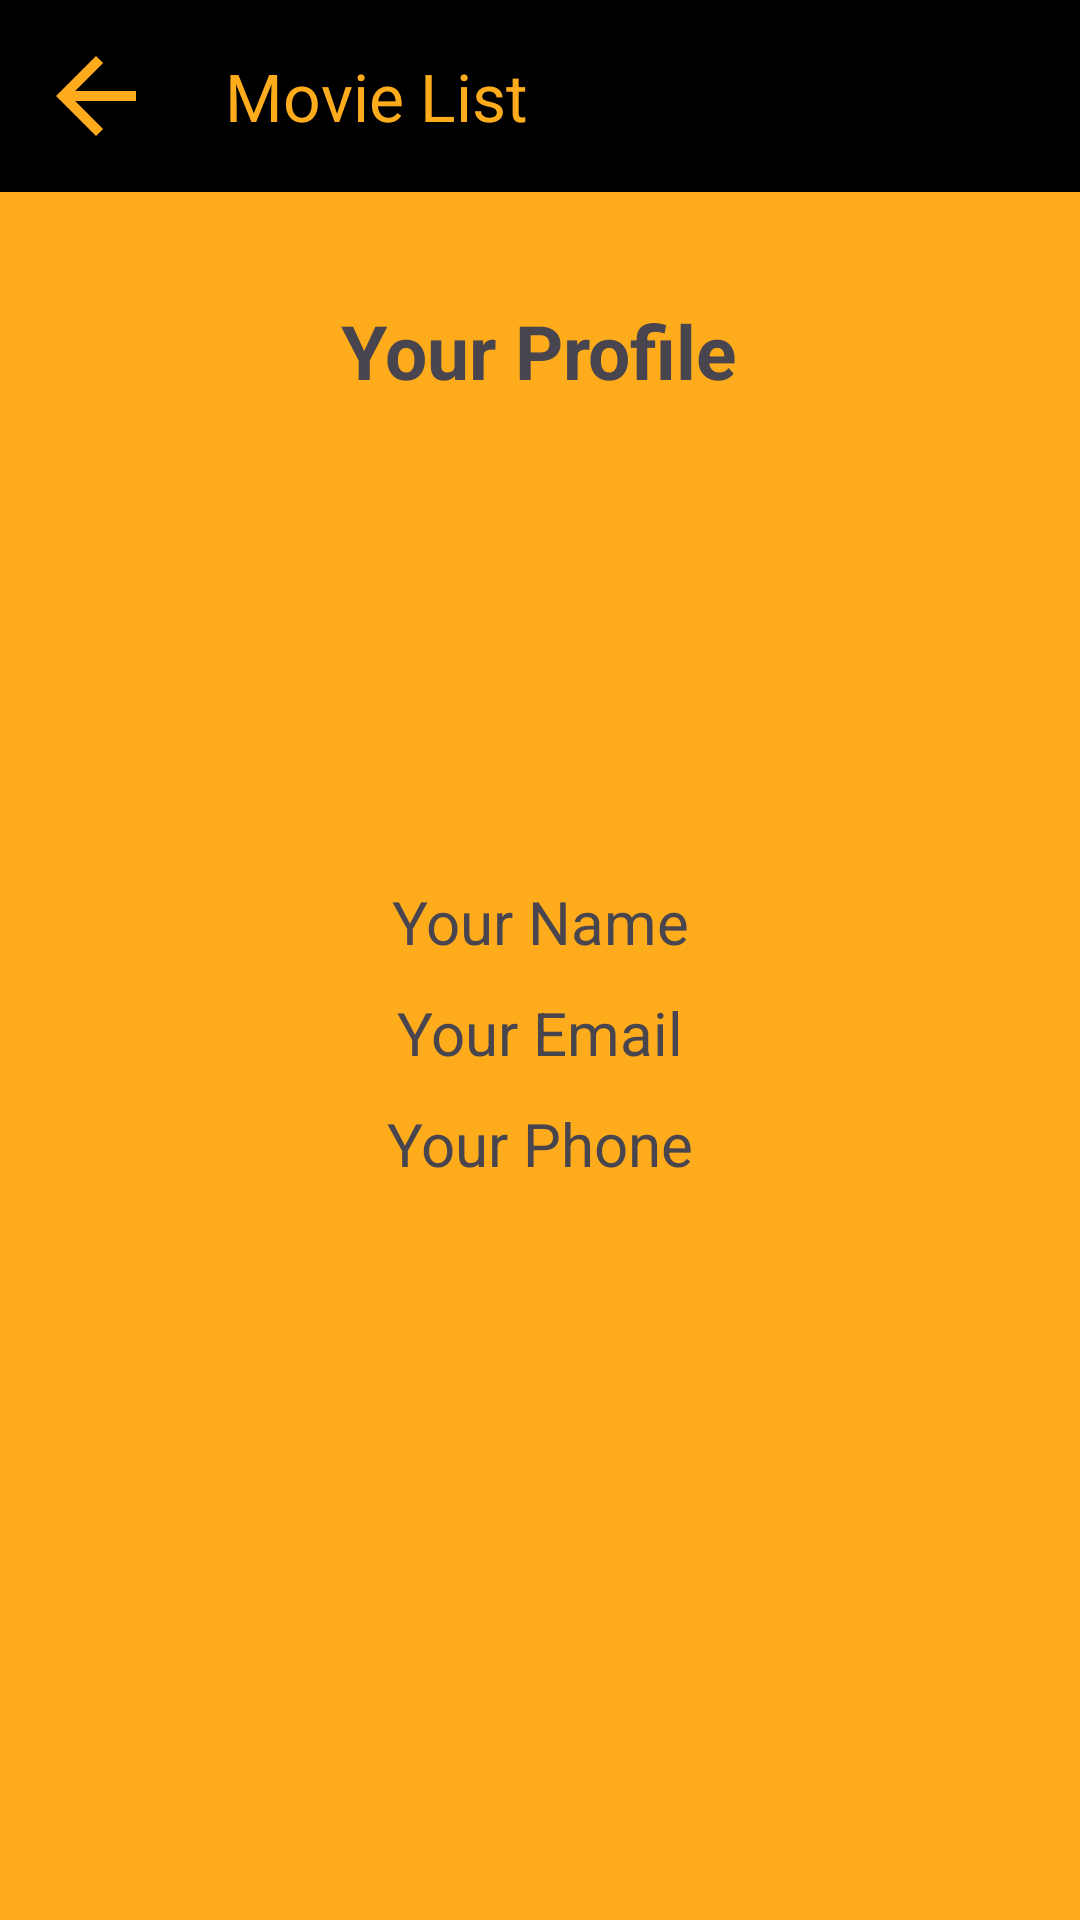

Named icons in this screenshot (1080w x 1920h) and their bounding boxes, box(x1, y1, x2, y2):
arrow back: box(56, 56, 136, 136)
